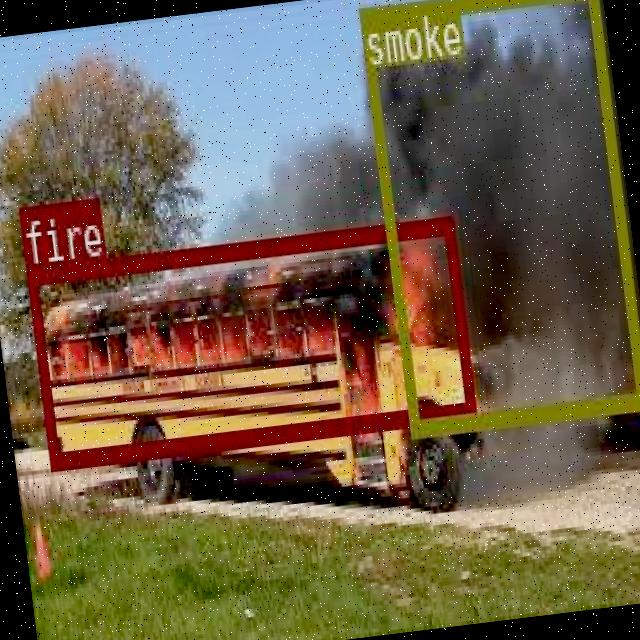fire: (24, 212, 474, 468)
smoke: (357, 0, 640, 435)
